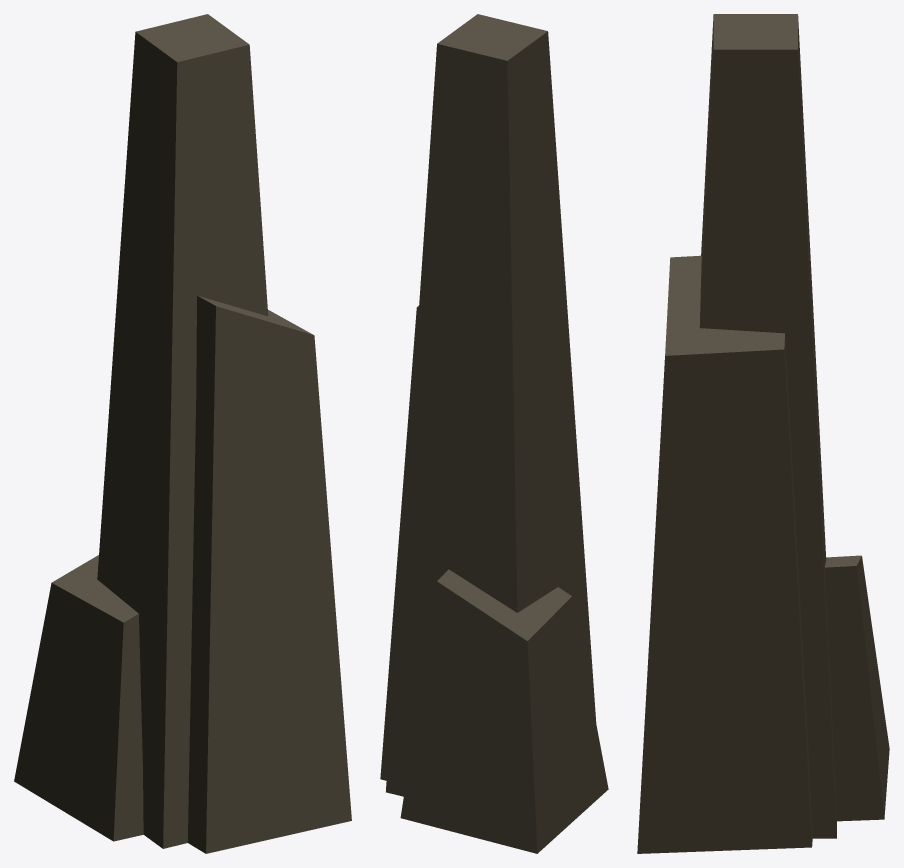
Rendered from SD_Env_Undead_StoneEdge_01.fbx.
3 views of the same model, side by side, from view 1: azimuth 30°, elevation 25°; view 2: azimuth 150°, elevation 25°; view 3: azimuth 270°, elevation 25° (orthographic). The views are drawn at different scales.
Parts seen in each view (by area): view 1: SD_Env_Undead_StoneEdge_01; view 2: SD_Env_Undead_StoneEdge_01; view 3: SD_Env_Undead_StoneEdge_01.
Boxes of the visible parts, <box> form: SD_Env_Undead_StoneEdge_01: <box>14,14,351,853</box>; SD_Env_Undead_StoneEdge_01: <box>380,14,608,853</box>; SD_Env_Undead_StoneEdge_01: <box>637,14,889,853</box>.
Size of the model in its own units: 2.92 by 10 by 2.96.
